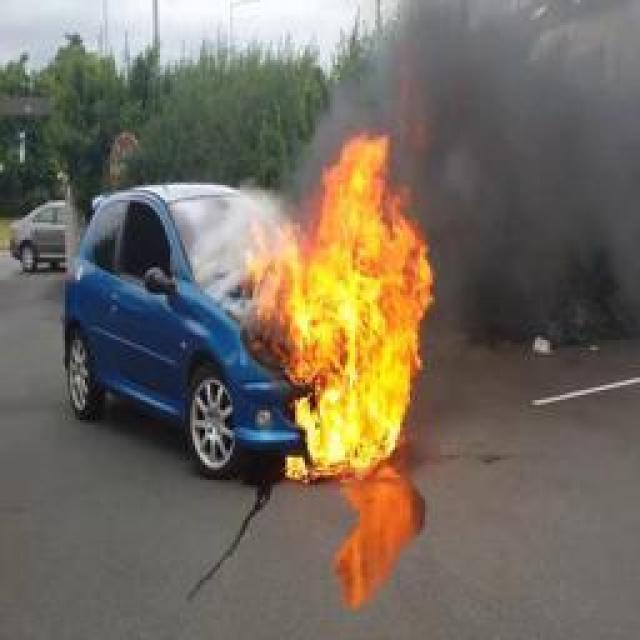Fire: (250, 135, 435, 478)
